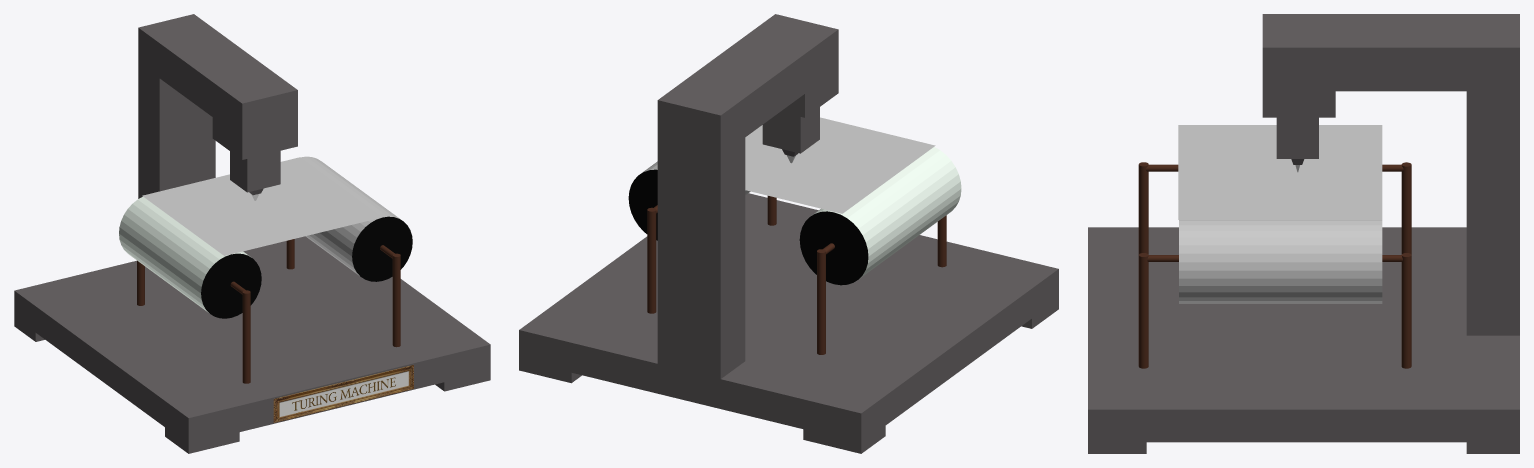
Rendered from TuringMachine_15_Mai.fbx.
The picture shows the model from 3 angles, left to right: view 1: azimuth 30°, elevation 25°; view 2: azimuth 150°, elevation 25°; view 3: azimuth 270°, elevation 25°; orthographic projection. The views are drawn at different scales.
Visible parts, largest first — view 1: Cube, Plane, Rolle Links TM, Rolle Rechts TM, Label, Stick_front_left, Stick_front_right; view 2: Cube, Rolle Links TM, Plane, Rolle Rechts TM, Stick_back_right, Stick_back_left; view 3: Cube, Plane, Rolle Rechts TM, Stick_front_right, Stick_back_right, Stick_front_left, Stick_back_left.
Boxes of the visible parts, x1,y1,x2,y2 form: Cube: [14, 14, 490, 453]; Plane: [142, 157, 381, 255]; Rolle Links TM: [119, 196, 261, 318]; Rolle Rechts TM: [300, 156, 412, 281]; Label: [273, 365, 413, 422]; Stick_front_left: [242, 290, 250, 383]; Stick_front_right: [392, 253, 400, 347]; Cube: [519, 14, 1058, 453]; Rolle Links TM: [799, 147, 961, 285]; Plane: [745, 117, 935, 213]; Rolle Rechts TM: [628, 161, 750, 240]; Stick_back_right: [647, 207, 656, 313]; Stick_back_left: [817, 249, 825, 354]; Cube: [1088, 14, 1519, 453]; Plane: [1178, 125, 1382, 219]; Rolle Rechts TM: [1179, 220, 1382, 303]; Stick_front_right: [1138, 253, 1148, 368]; Stick_back_right: [1401, 253, 1411, 368]; Stick_front_left: [1138, 162, 1148, 254]; Stick_back_left: [1401, 162, 1411, 254].
Bounding box in the file's own units: 200 × 170 × 200.
